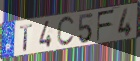4: (117, 7, 133, 38), (38, 19, 53, 50)
5: (77, 12, 94, 45)
C: (56, 15, 76, 48)
F: (96, 8, 115, 43)
T: (19, 23, 34, 53)
